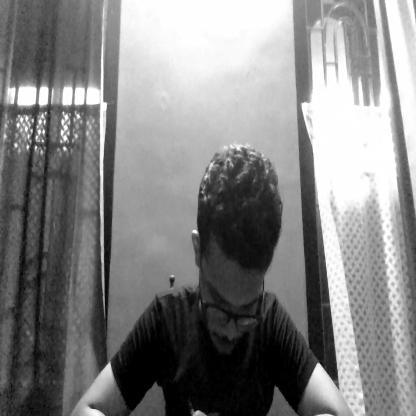Distracted: (198, 138, 278, 361)
